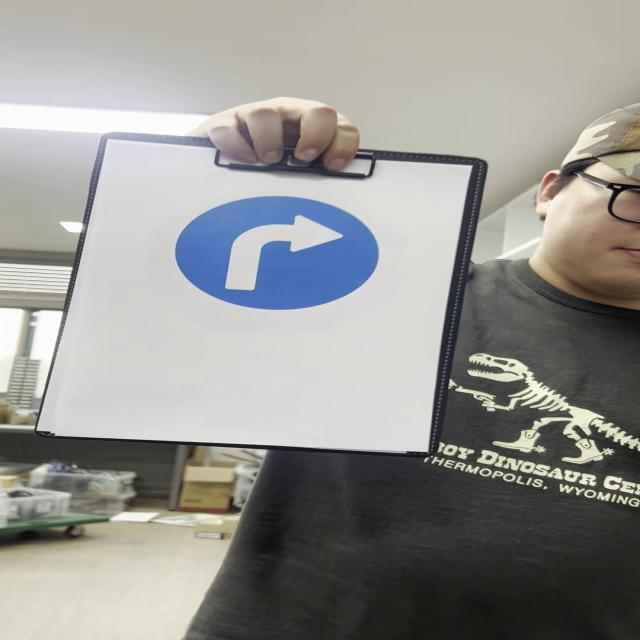right: (181, 197, 383, 312)
